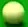white: (0, 0, 28, 27)
